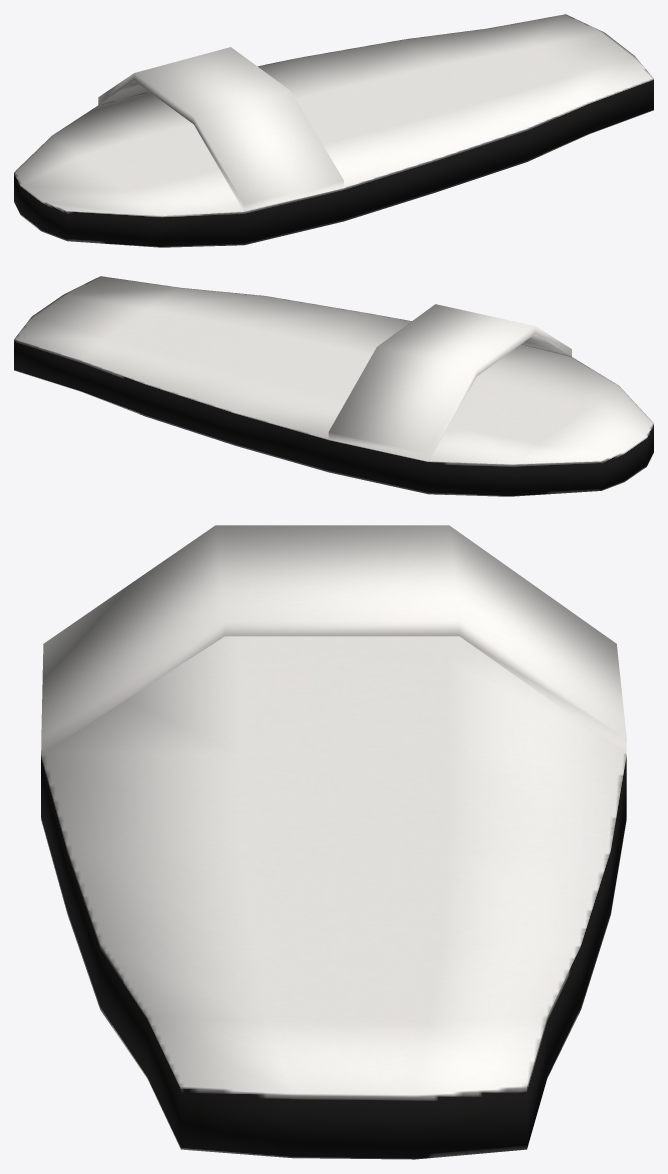
Rendered from Sendal.fbx.
3 renders of one model, top to bottom at view 1: azimuth 30°, elevation 25°; view 2: azimuth 150°, elevation 25°; view 3: azimuth 270°, elevation 25°, orthographic. The views are drawn at different scales.
Visible parts, largest first — view 1: prop_Btr_Sandal; view 2: prop_Btr_Sandal; view 3: prop_Btr_Sandal.
Part boxes in pixels (x1,y1,x2,y2): prop_Btr_Sandal: [14, 14, 653, 247]; prop_Btr_Sandal: [14, 276, 653, 496]; prop_Btr_Sandal: [41, 525, 626, 1159].
Bounding box in the file's own units: 0.1971 × 0.0311 × 0.0855.
